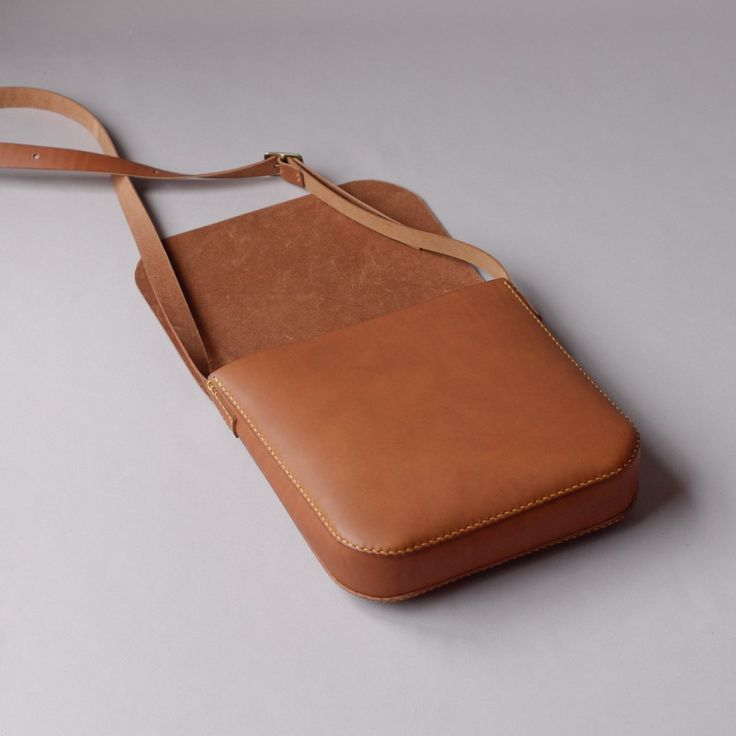cuero: (1, 84, 640, 600)
